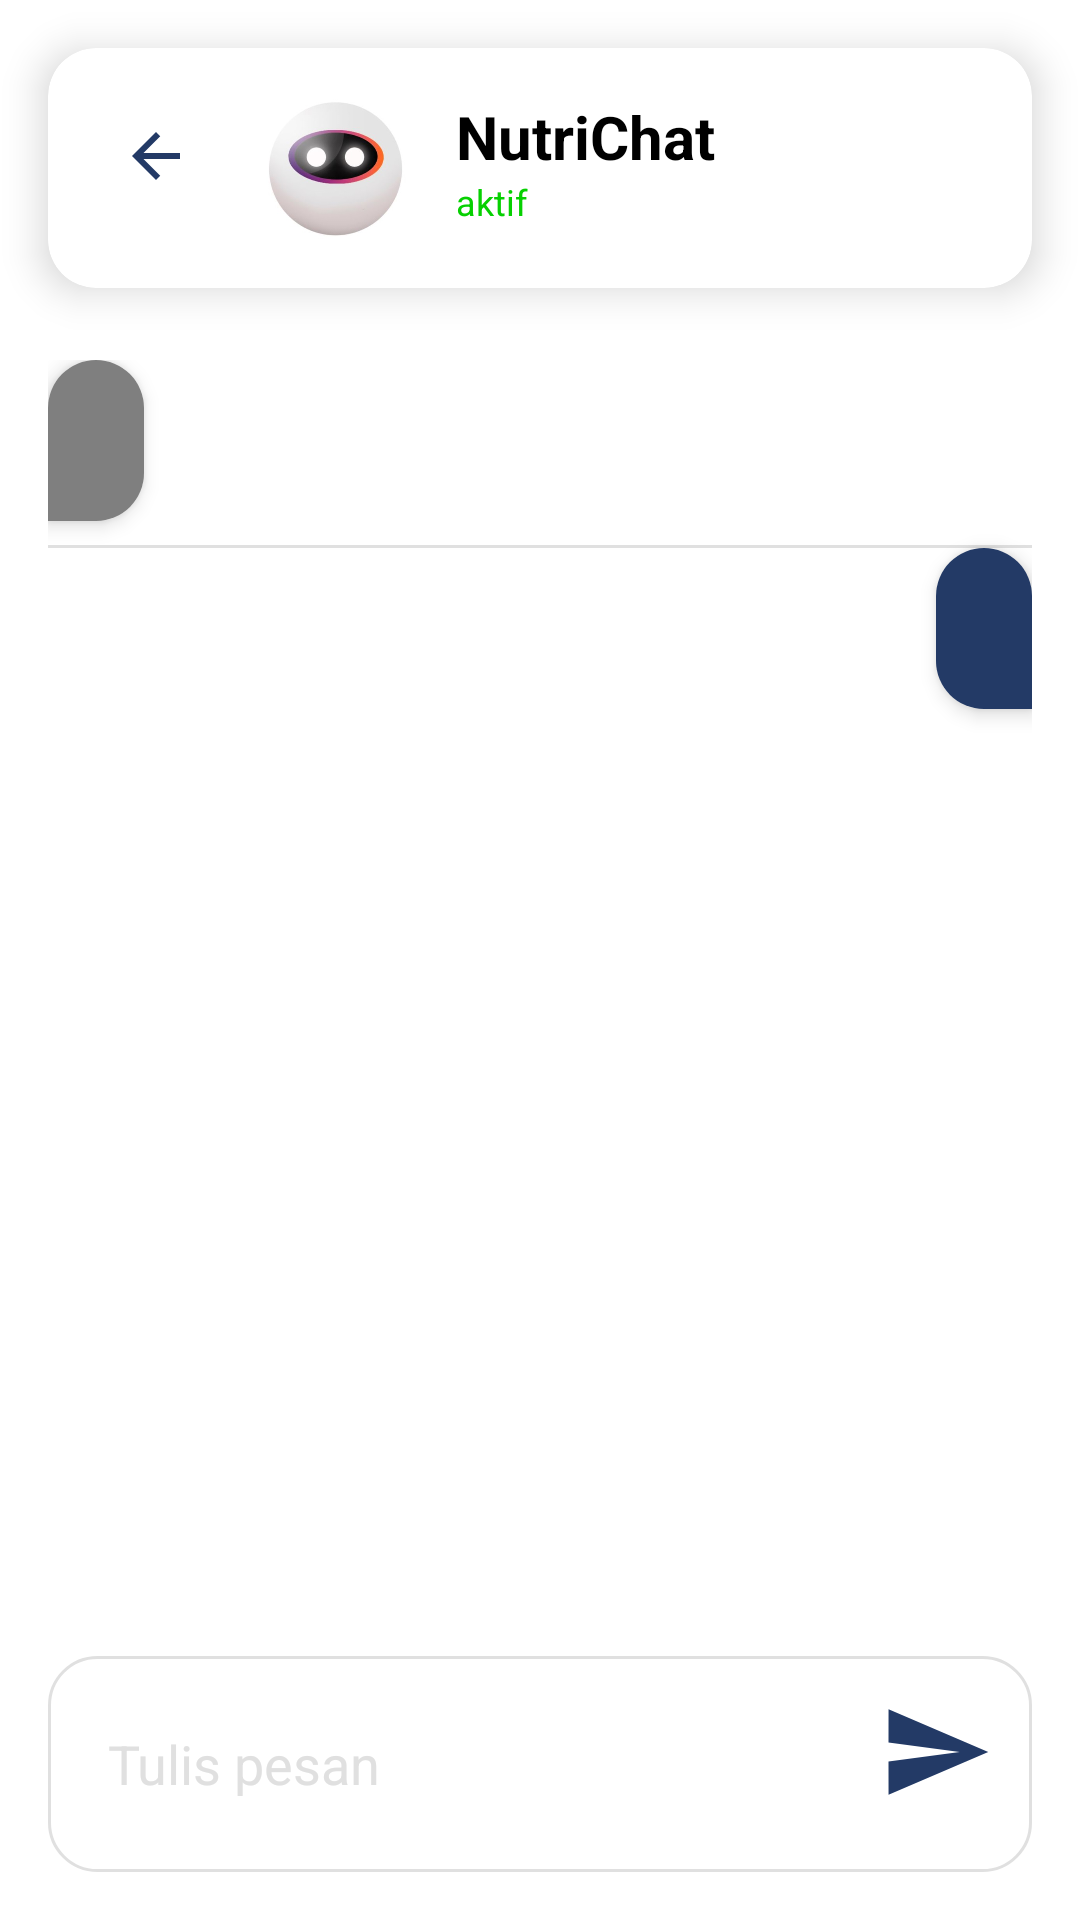

Icons on this 1080 × 1920 Android screen, each with the point to tap as (x,y):
Kirim pesan: (938,1752)
Tombol Kembali: (156,156)
